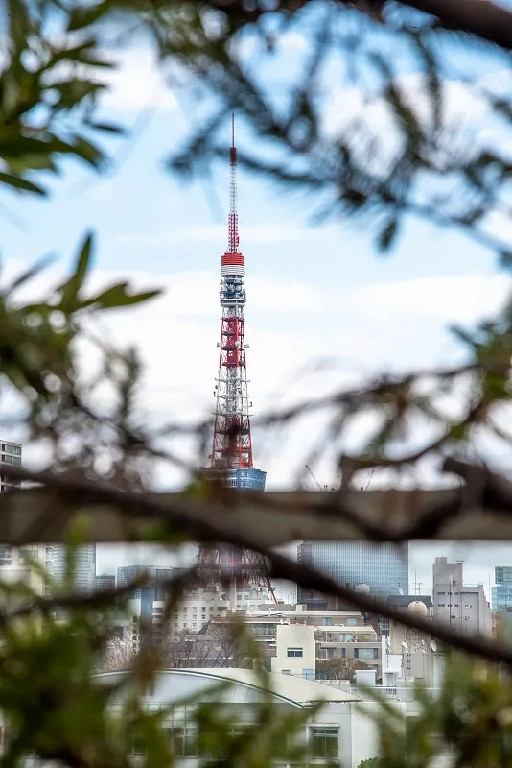Tokyo: (196, 107, 277, 605)
